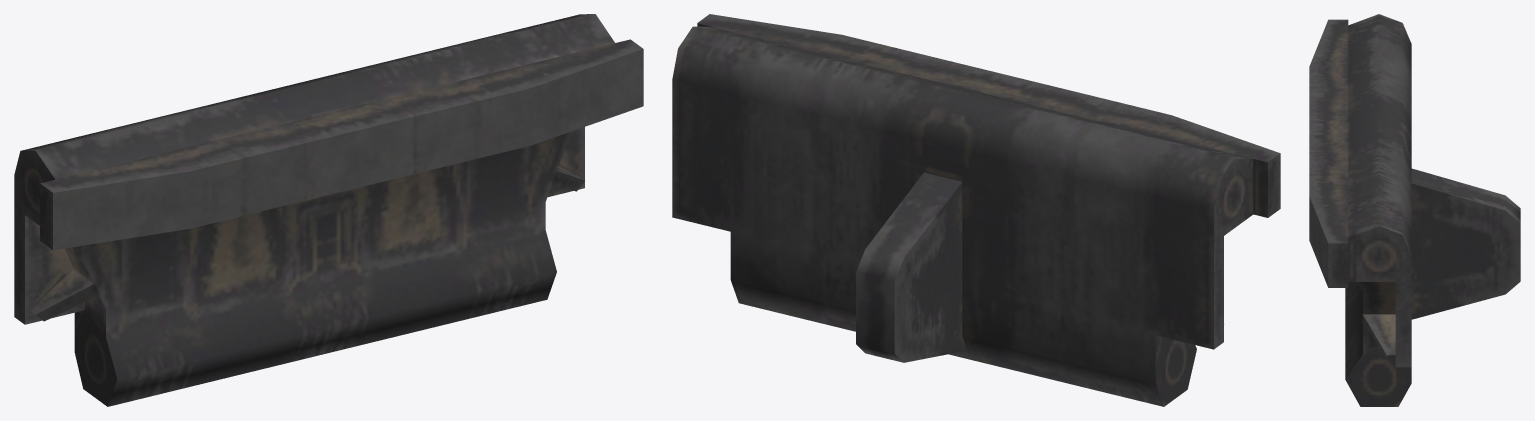
The picture shows the model from 3 angles, left to right: view 1: azimuth 30°, elevation 25°; view 2: azimuth 150°, elevation 25°; view 3: azimuth 270°, elevation 25°; orthographic projection. The views are drawn at different scales.
Parts seen in each view (by area): view 1: set_0_group_0; view 2: set_0_group_0; view 3: set_0_group_0.
Part boxes in pixels (x1,y1,x2,y2): set_0_group_0: (14,14,643,406); set_0_group_0: (672,14,1280,406); set_0_group_0: (1309,14,1520,406).
Bounding box in the file's own units: 0.522 × 0.2216 × 0.2085.
1 material, 1 textured.
